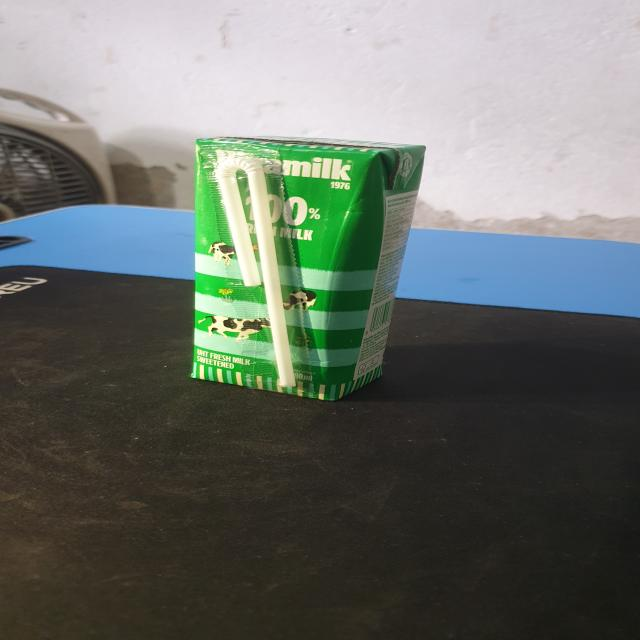Vina: (196, 131, 427, 401)
